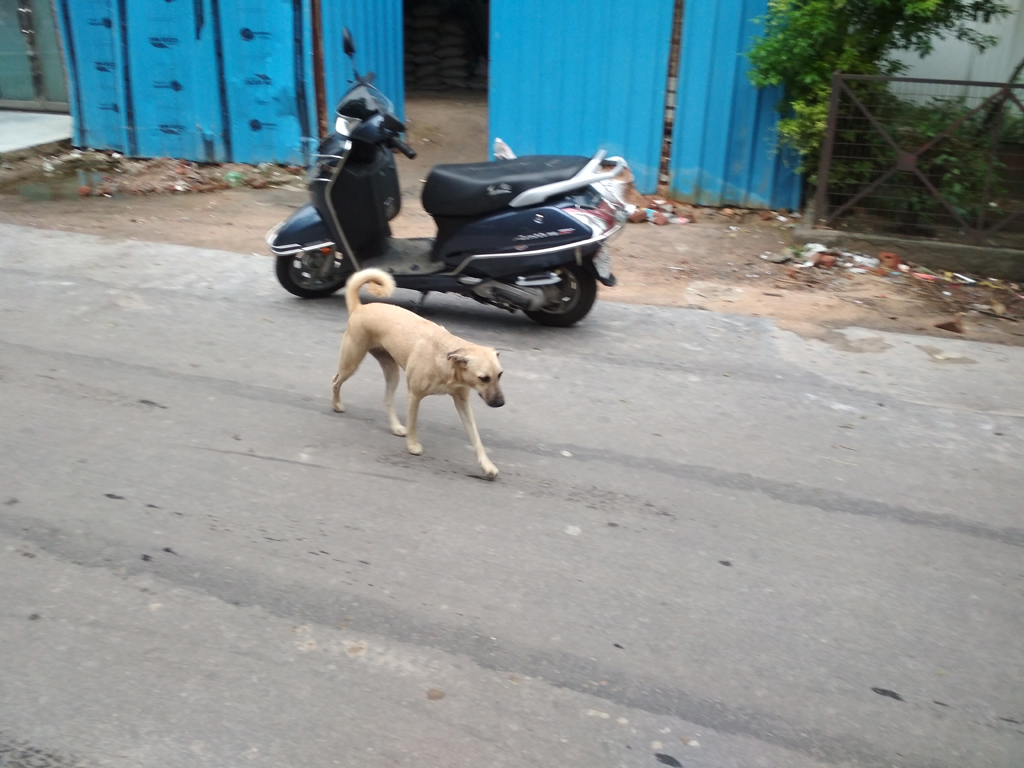dog: (331, 267, 507, 481)
